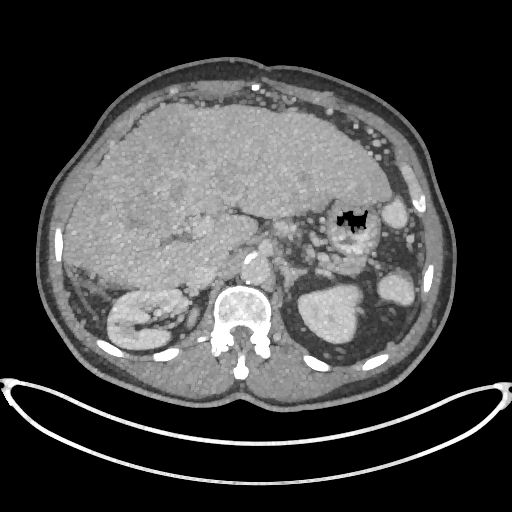Lesion: (112, 318, 122, 329)
